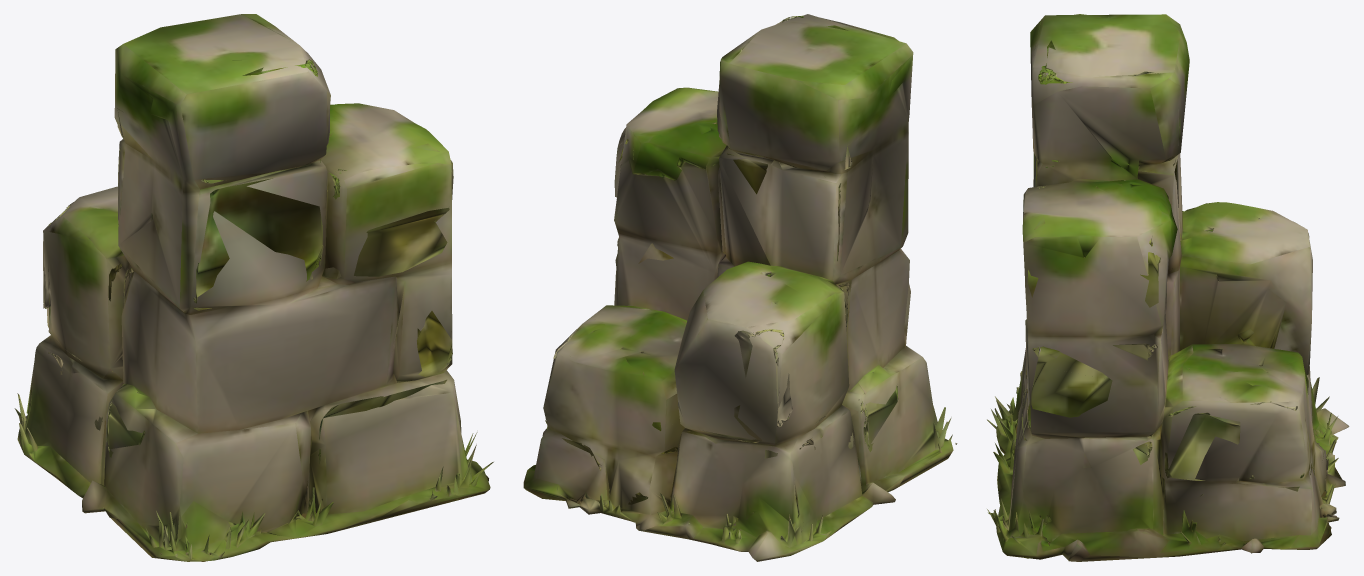
3 views of the same model, side by side, from view 1: azimuth 30°, elevation 25°; view 2: azimuth 150°, elevation 25°; view 3: azimuth 270°, elevation 25° (orthographic). The views are drawn at different scales.
Visible parts, largest first — view 1: world; view 2: world; view 3: world.
Boxes of the visible parts, bbox=[...] form: world: bbox=[14, 14, 493, 561]; world: bbox=[523, 14, 957, 561]; world: bbox=[987, 14, 1349, 561].
Bounding box in the file's own units: 0.7748 × 0.9922 × 0.7707.
Materials: 1 (1 with a texture image).
